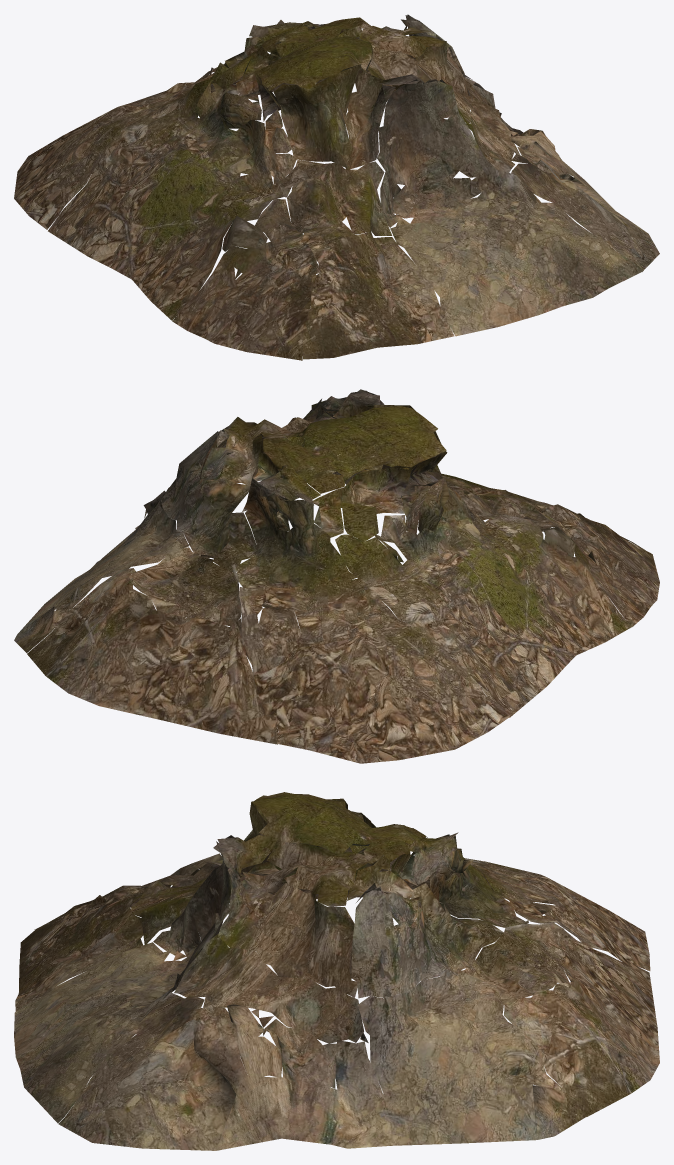
The model's file is tree_stump_01.glb.
The picture shows the model from 3 angles, top to bottom: view 1: azimuth 30°, elevation 25°; view 2: azimuth 150°, elevation 25°; view 3: azimuth 270°, elevation 25°; orthographic projection. The views are drawn at different scales.
Visible parts, largest first — view 1: lod0; view 2: lod0; view 3: lod0.
Boxes of the visible parts, x1,y1,x2,y2 form: lod0: [14, 14, 659, 360]; lod0: [14, 389, 659, 763]; lod0: [14, 792, 659, 1150].
Size of what is drawn, in the model's own units: 1.42 by 0.5736 by 1.59.
1 material, 1 textured.
